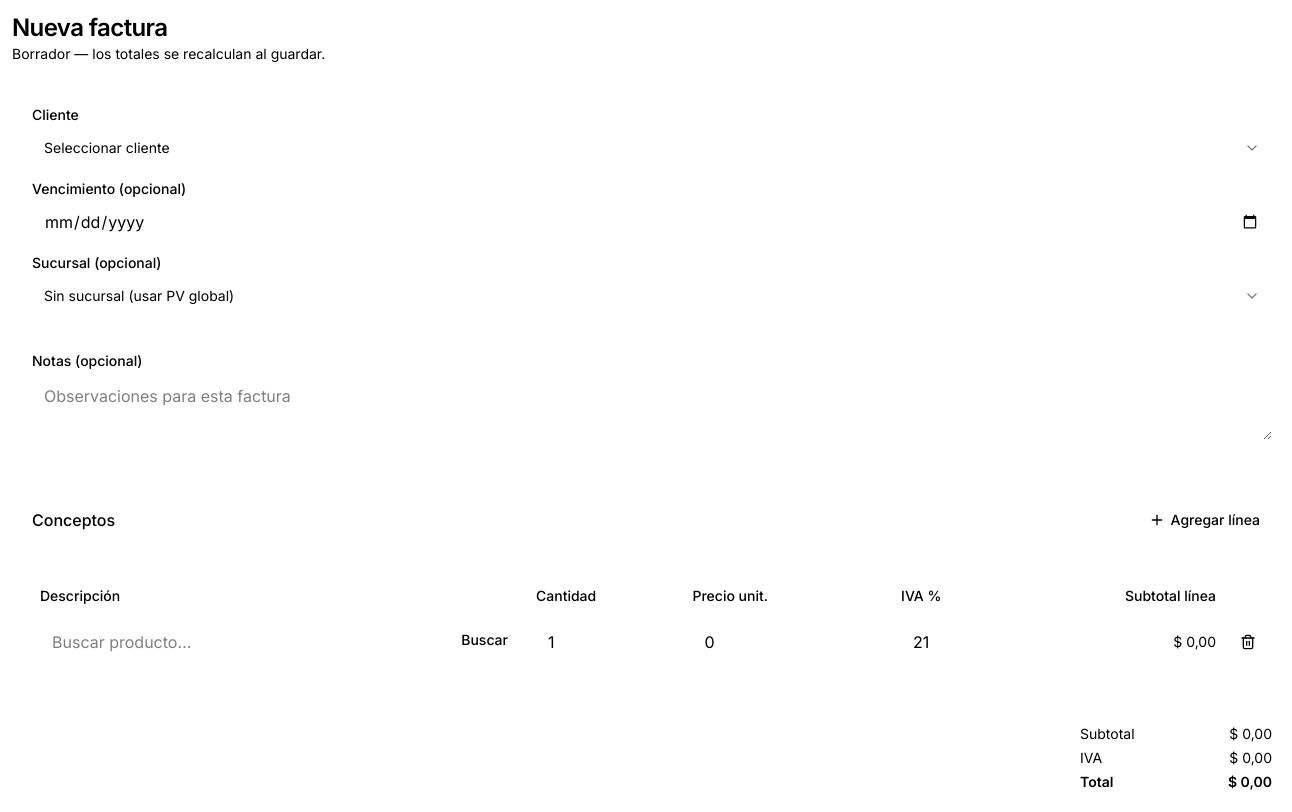
Scenario: InvoiceForm — buscador de productos con autocompletado de precio › muestra 'Sin resultados' cuando la búsqueda no encuentra nada
This screenshot has width=1292, height=812.
Step 1. Type "no existe" into the field labelled "Buscar producto" → [243, 642], box [40, 624, 445, 660]
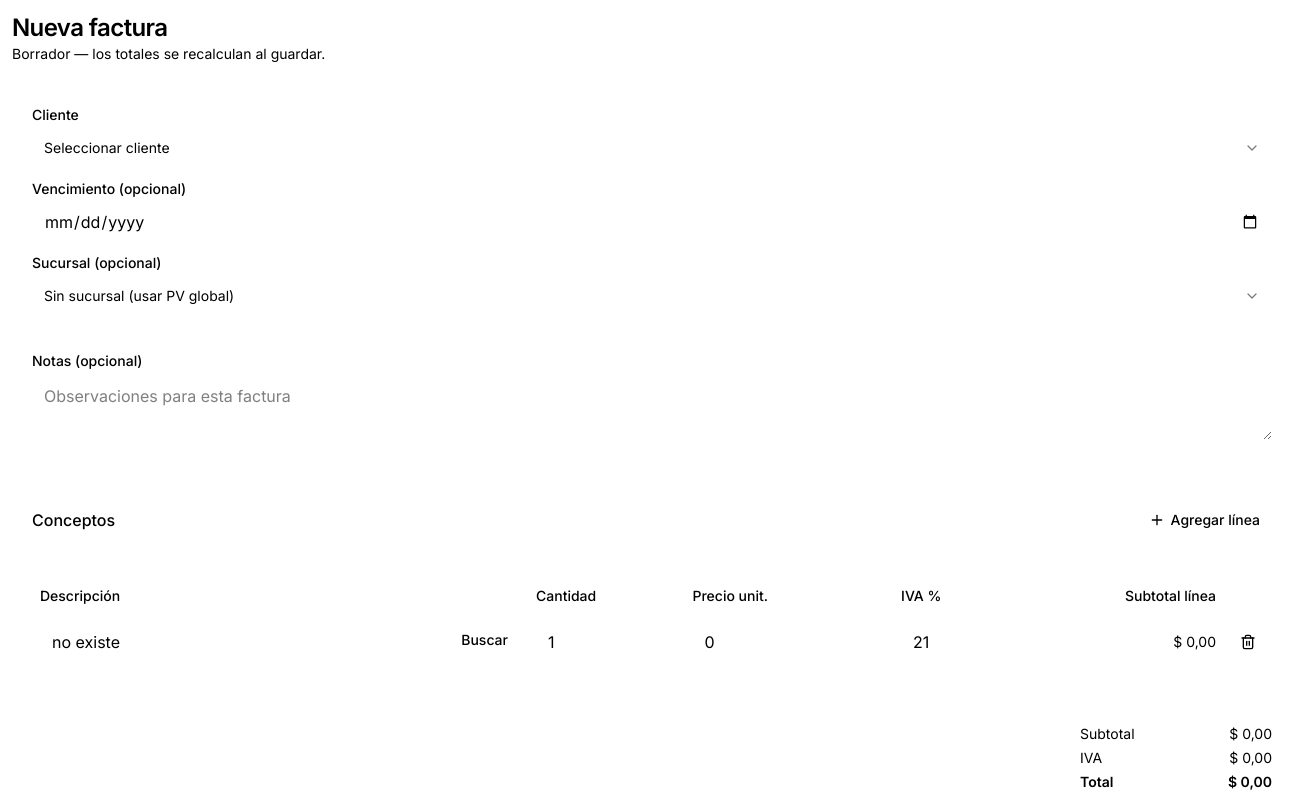
Step 2. Press Enter in the field named "Buscar producto", box [40, 624, 445, 660]
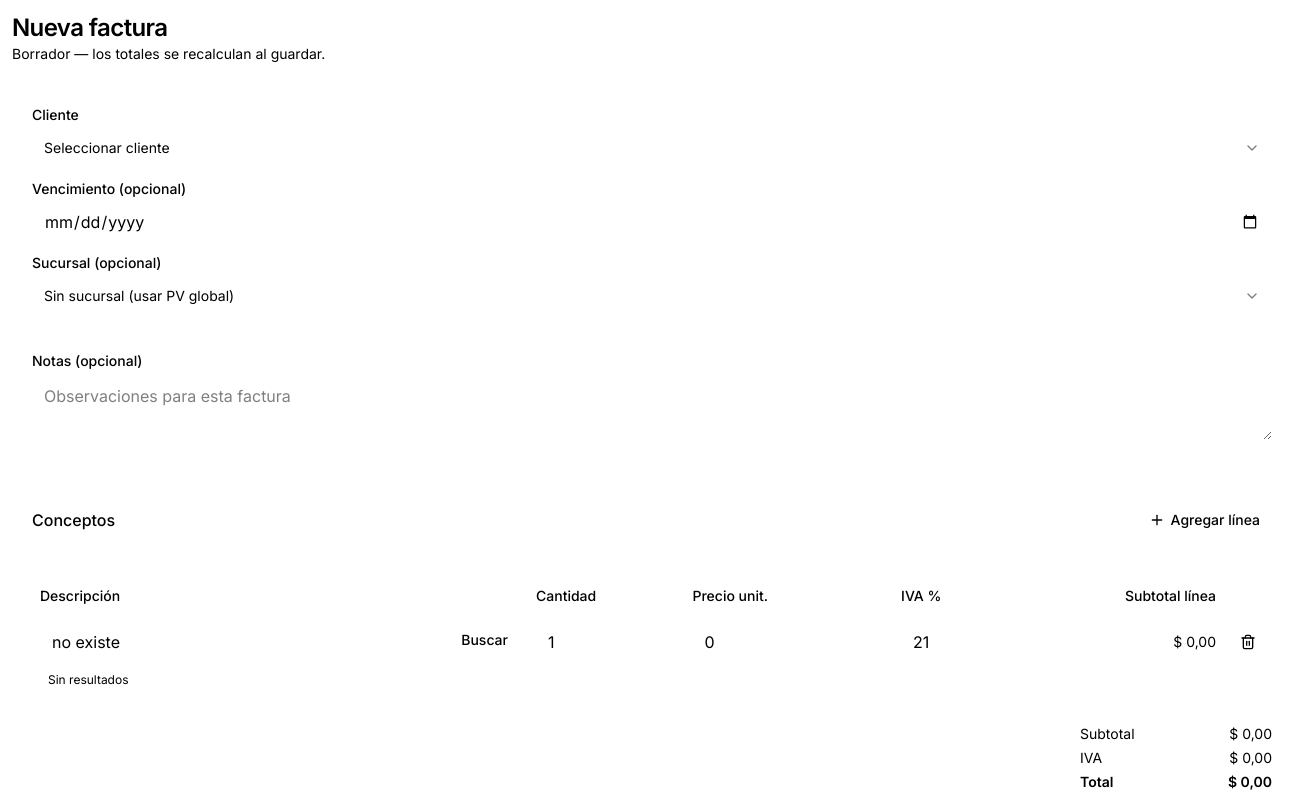
Expected: the text with test id "product-search-empty" reads "Sin resultados", [48, 672, 128, 687]
